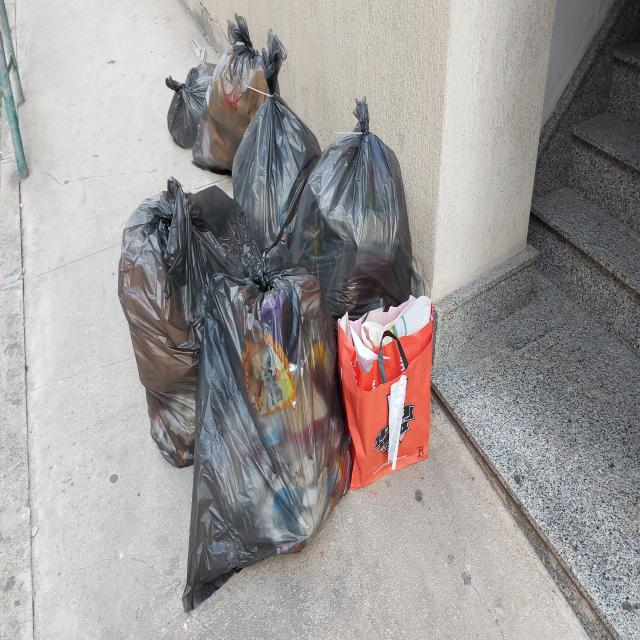Mixed Waste -Black Bag-: (185, 278, 352, 613), (126, 188, 266, 466), (288, 134, 416, 332), (234, 96, 322, 257), (193, 41, 282, 176), (167, 59, 217, 150)
Other: (339, 306, 434, 483)
